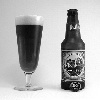beer: (13, 13, 49, 93)
